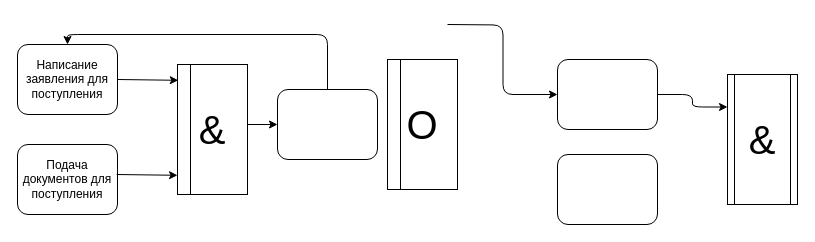
This 815x242 diagram has some shape labels left out. Each missing label, with the centre of its shape:
"Обучение по программе бакалавриата" belongs at pixel 607 94.
"Поступление на бакалавриат" belongs at pixel 327 124.
"Прохождение мед комиссии в военкомате" belongs at pixel 607 189.
